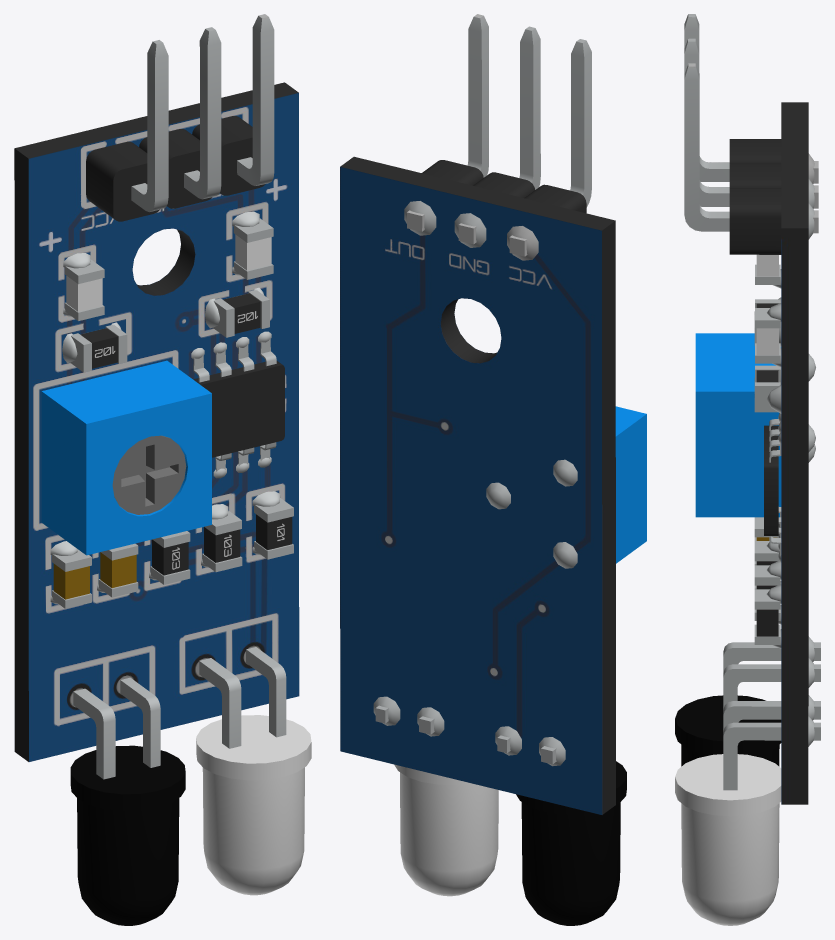
The model's file is ir sensor.fbx.
3 views of the same model, side by side, from view 1: azimuth 30°, elevation 25°; view 2: azimuth 150°, elevation 25°; view 3: azimuth 270°, elevation 25° (orthographic). The views are drawn at different scales.
Parts seen in each view (by area): view 1: IR_sensor_006.002, IR_sensor_012.002, IR_sensor_002.002, IR_sensor_010.002, IR_sensor_007.002, IR_sensor_004.002, IR_sensor_003.002, IR_sensor_1.002, IR_sensor_005.002, IR_sensor_009.002, IR_sensor_008.002, IR_sensor_013.002; view 2: IR_sensor_006.002, IR_sensor_002.002, IR_sensor_007.002, IR_sensor_004.002, IR_sensor_011.002, IR_sensor_012.002; view 3: IR_sensor_006.002, IR_sensor_004.002, IR_sensor_012.002, IR_sensor_002.002, IR_sensor_010.002, IR_sensor_007.002, IR_sensor_005.002, IR_sensor_009.002, IR_sensor_011.002, IR_sensor_003.002, IR_sensor_013.002, IR_sensor_008.002.
Part boxes in pixels (left/top/right/bottom): IR_sensor_006.002: left=14, top=82, right=299, bottom=761; IR_sensor_012.002: left=41, top=360, right=211, bottom=555; IR_sensor_002.002: left=86, top=14, right=274, bottom=221; IR_sensor_010.002: left=50, top=211, right=293, bottom=608; IR_sensor_007.002: left=70, top=745, right=185, bottom=925; IR_sensor_004.002: left=196, top=715, right=311, bottom=895; IR_sensor_003.002: left=193, top=361, right=284, bottom=457; IR_sensor_1.002: left=112, top=435, right=186, bottom=514; IR_sensor_005.002: left=199, top=647, right=286, bottom=748; IR_sensor_009.002: left=73, top=677, right=160, bottom=779; IR_sensor_008.002: left=191, top=331, right=276, bottom=478; IR_sensor_013.002: left=66, top=234, right=271, bottom=311; IR_sensor_006.002: left=340, top=156, right=615, bottom=814; IR_sensor_002.002: left=406, top=14, right=591, bottom=256; IR_sensor_007.002: left=516, top=761, right=626, bottom=925; IR_sensor_004.002: left=394, top=764, right=498, bottom=896; IR_sensor_011.002: left=373, top=201, right=577, bottom=766; IR_sensor_012.002: left=615, top=406, right=646, bottom=563; IR_sensor_006.002: left=781, top=102, right=808, bottom=804; IR_sensor_004.002: left=675, top=754, right=781, bottom=925; IR_sensor_012.002: left=695, top=333, right=781, bottom=517; IR_sensor_002.002: left=684, top=14, right=818, bottom=254; IR_sensor_010.002: left=754, top=264, right=781, bottom=648; IR_sensor_007.002: left=675, top=695, right=781, bottom=766; IR_sensor_005.002: left=723, top=701, right=820, bottom=790; IR_sensor_009.002: left=723, top=642, right=820, bottom=709; IR_sensor_011.002: left=808, top=153, right=815, bottom=746; IR_sensor_003.002: left=764, top=425, right=778, bottom=535; IR_sensor_013.002: left=756, top=254, right=778, bottom=355; IR_sensor_008.002: left=769, top=413, right=781, bottom=562.
Size of the model in its own units: 12.3 by 38.67 by 6.02.
